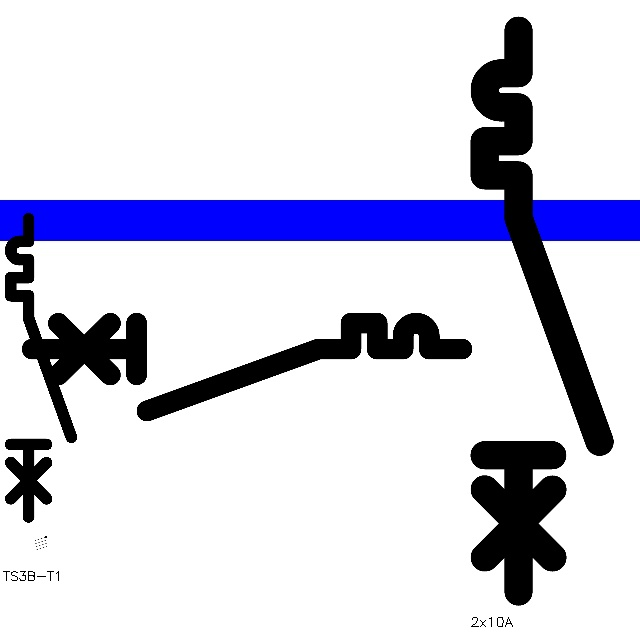interruptor_termomagnetico: (470, 16, 614, 606), (21, 312, 473, 422), (3, 211, 79, 524)
